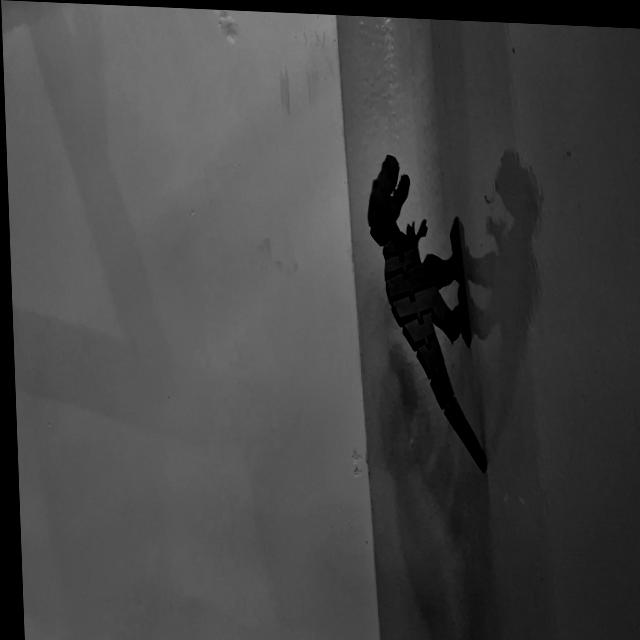dino: (363, 150, 487, 475)
